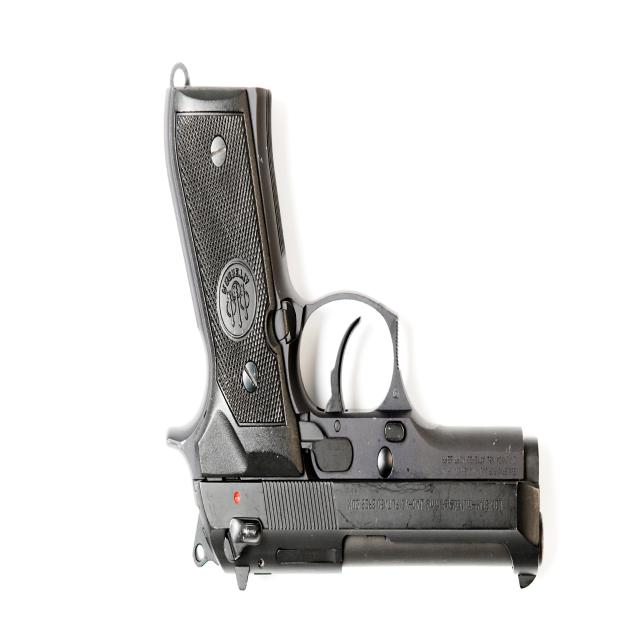Gun: (160, 73, 560, 594)
